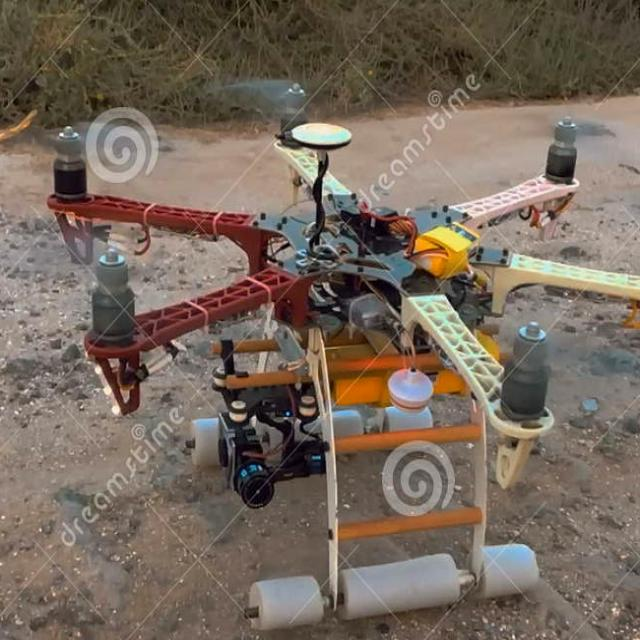drone: (12, 89, 640, 442)
